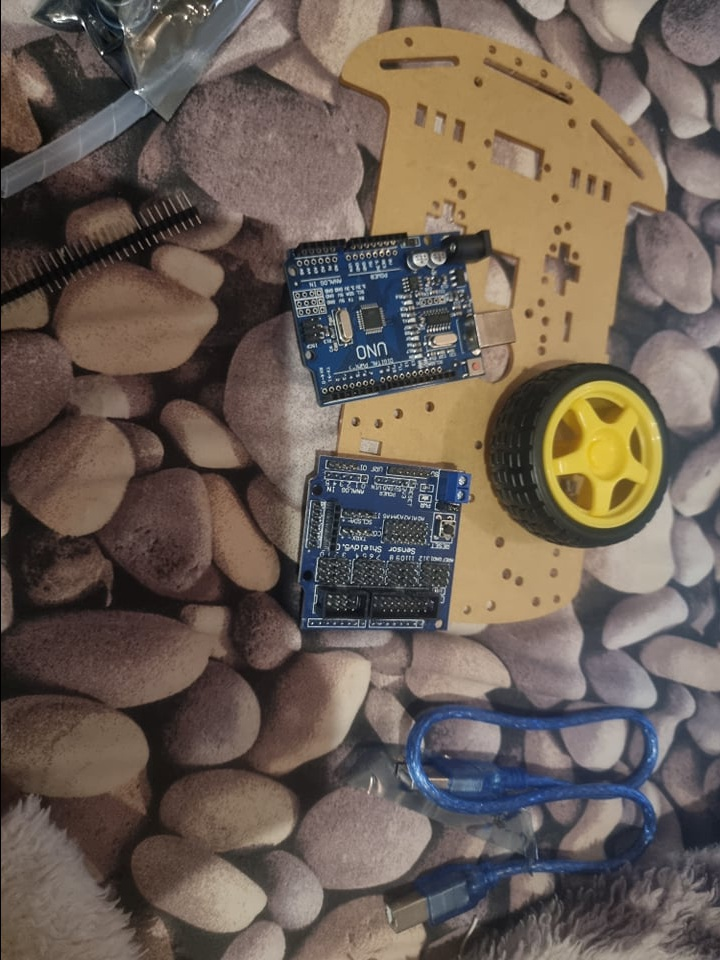5V EXPANSION: (297, 457, 470, 631)
UNO R3: (284, 228, 514, 408)
